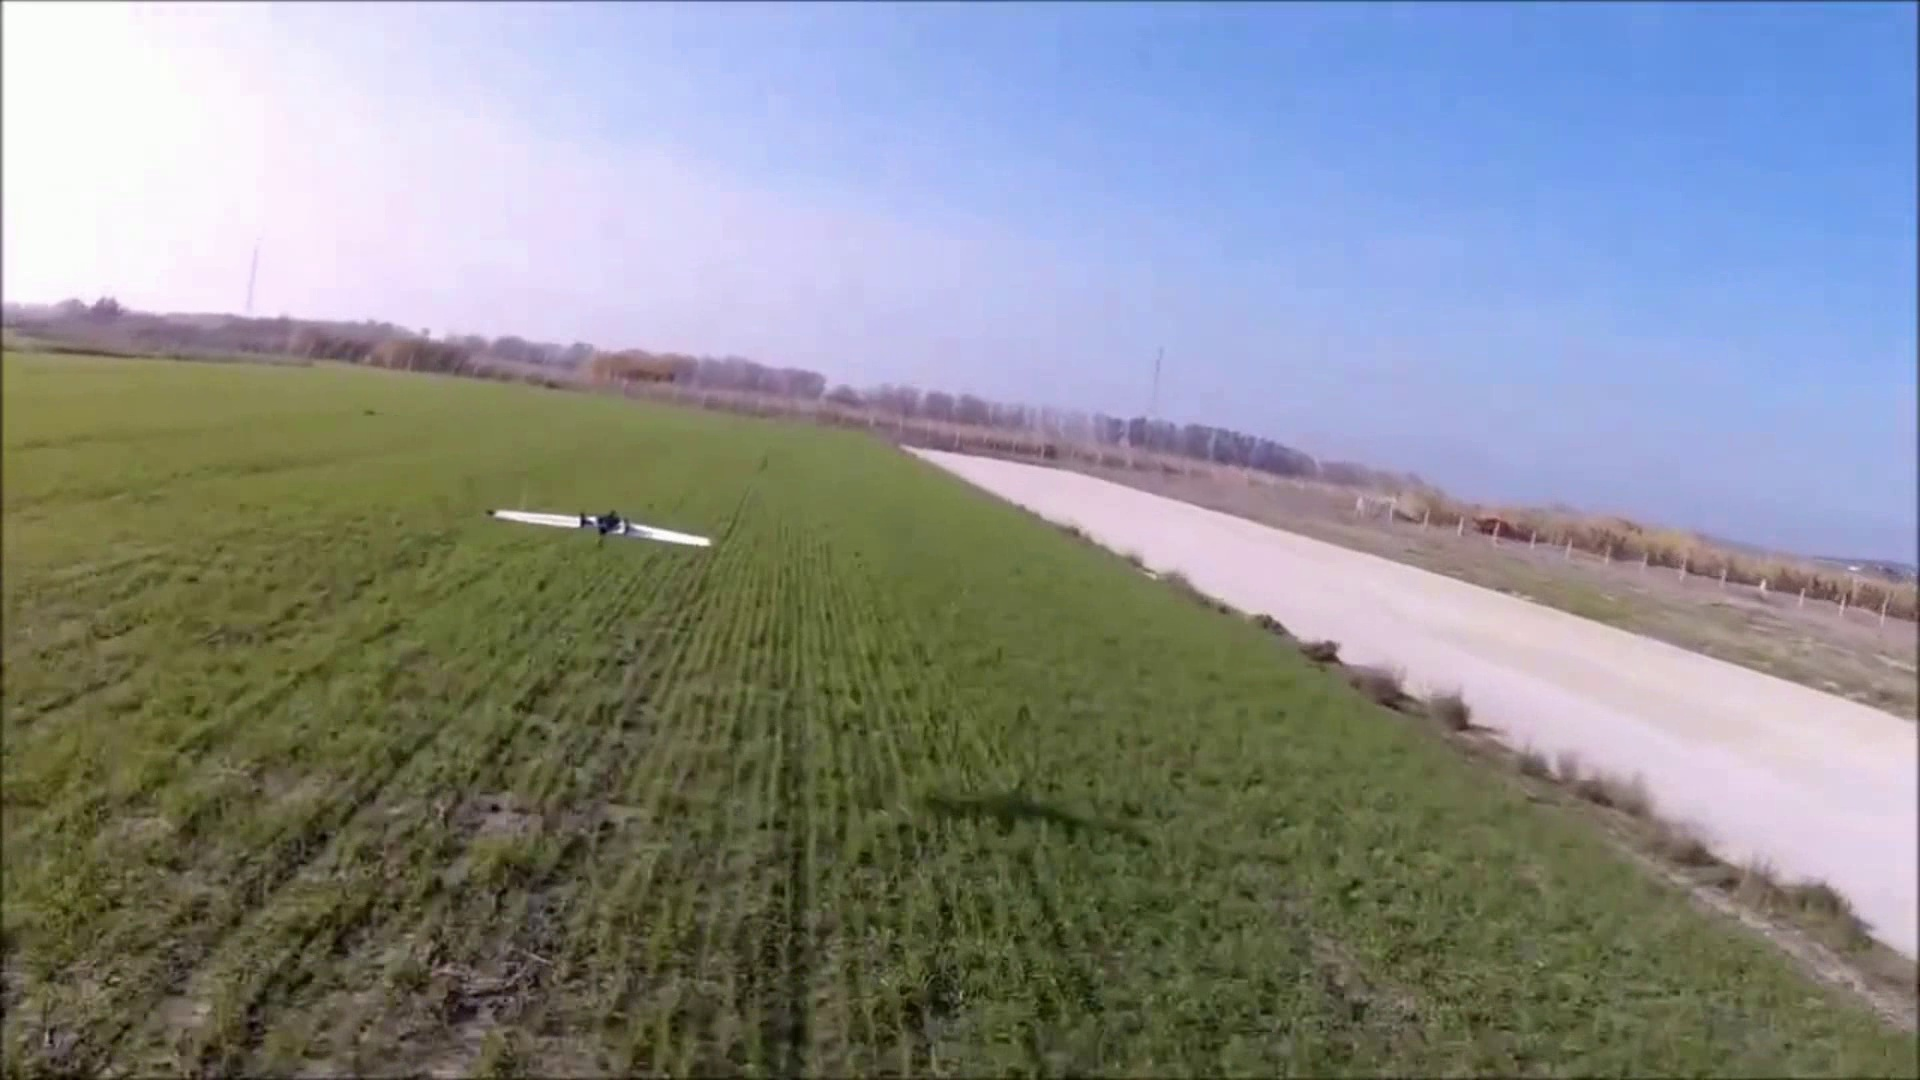airplane: (487, 504, 715, 553)
